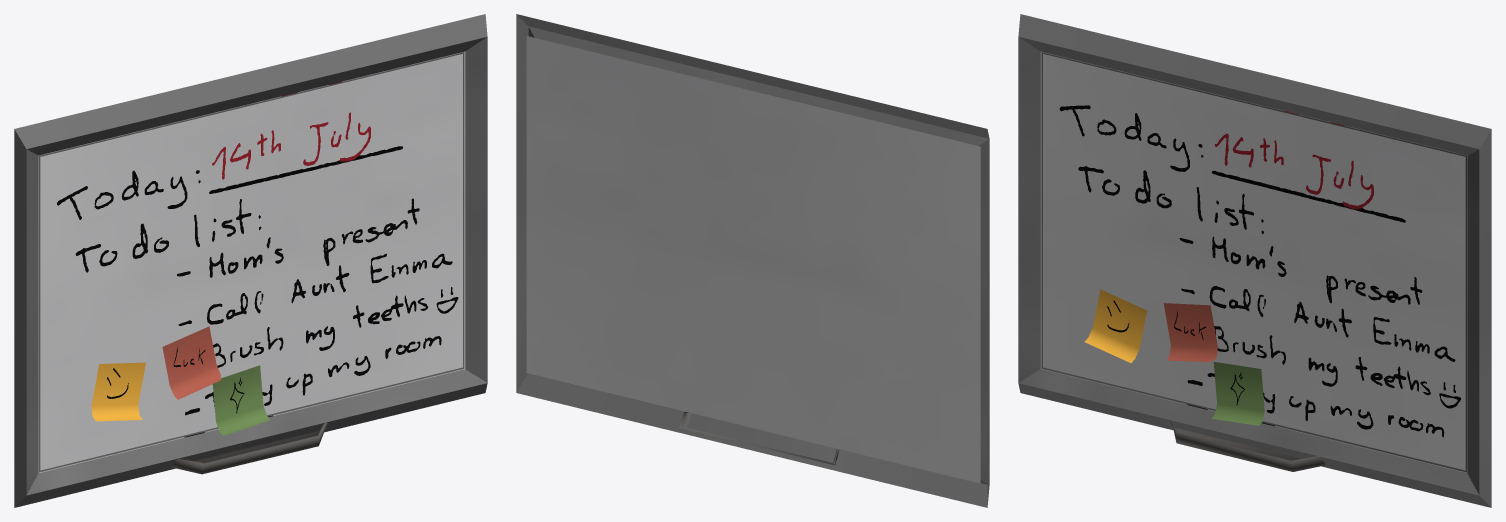
Rendered from Pizarra.fbx.
The picture shows the model from 3 angles, left to right: view 1: azimuth 30°, elevation 25°; view 2: azimuth 150°, elevation 25°; view 3: azimuth 330°, elevation 25°; orthographic projection.
Visible parts, largest first — view 1: Osito; view 2: Osito; view 3: Osito.
Boxes of the visible parts, left/top/right/bottom form: Osito: left=14, top=14, right=487, bottom=507; Osito: left=516, top=14, right=989, bottom=507; Osito: left=1018, top=14, right=1491, bottom=507.
Size of the model in its own units: 113 by 87.06 by 6.97.
